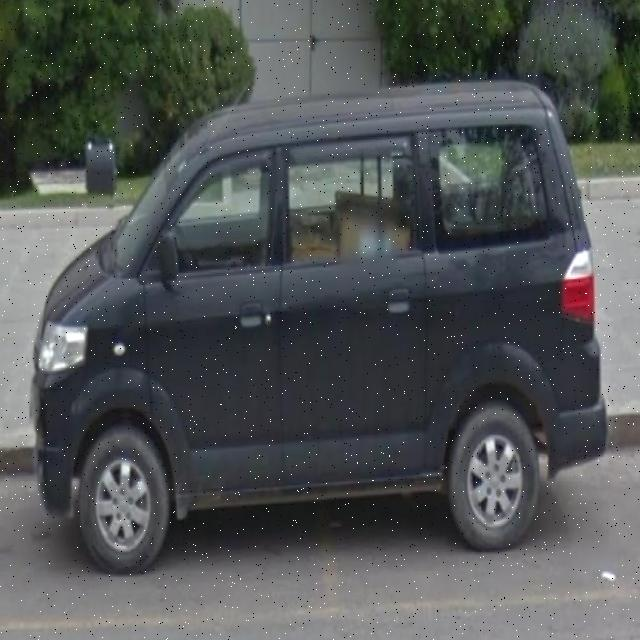car: (38, 87, 621, 567)
